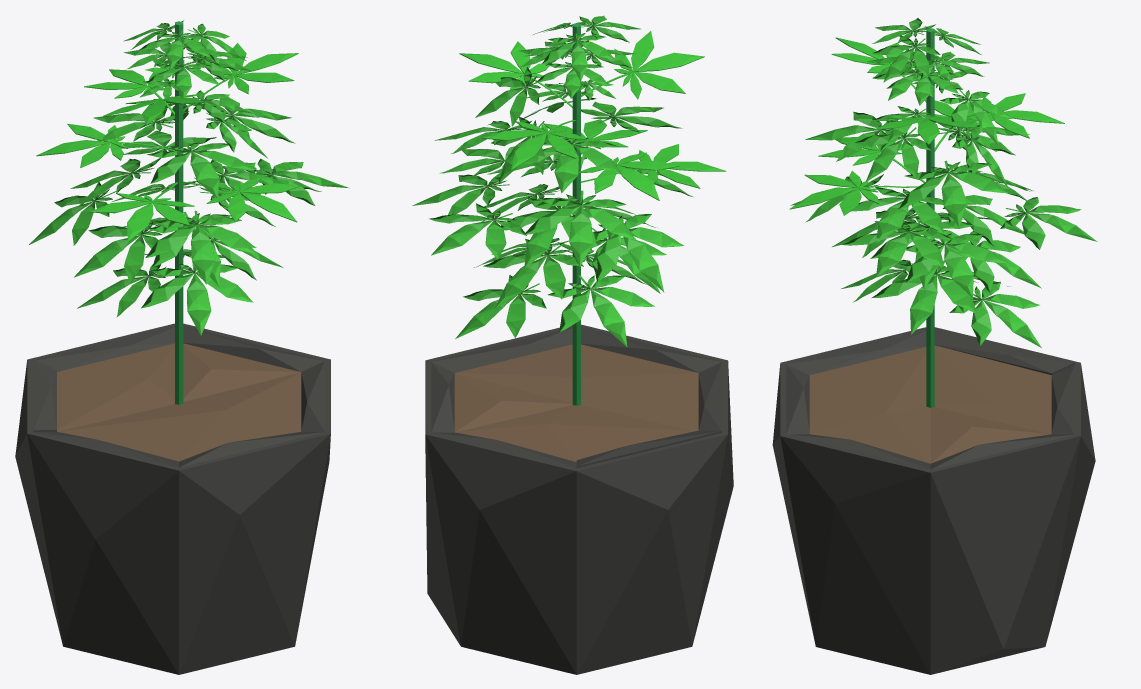
The model's file is objWeedLevel04.fbx.
3 renders of one model, left to right at view 1: azimuth 30°, elevation 25°; view 2: azimuth 150°, elevation 25°; view 3: azimuth 270°, elevation 25°, orthographic.
Visible parts, largest first — view 1: objWeedLevel04; view 2: objWeedLevel04; view 3: objWeedLevel04.
Part boxes in pixels (box(x1,y1,x2,y2)): objWeedLevel04: box(15, 20, 349, 674); objWeedLevel04: box(412, 15, 733, 674); objWeedLevel04: box(772, 18, 1097, 674).
Size of the model in its own units: 0.2929 by 0.5171 by 0.2901.
2 materials, 2 textured.
